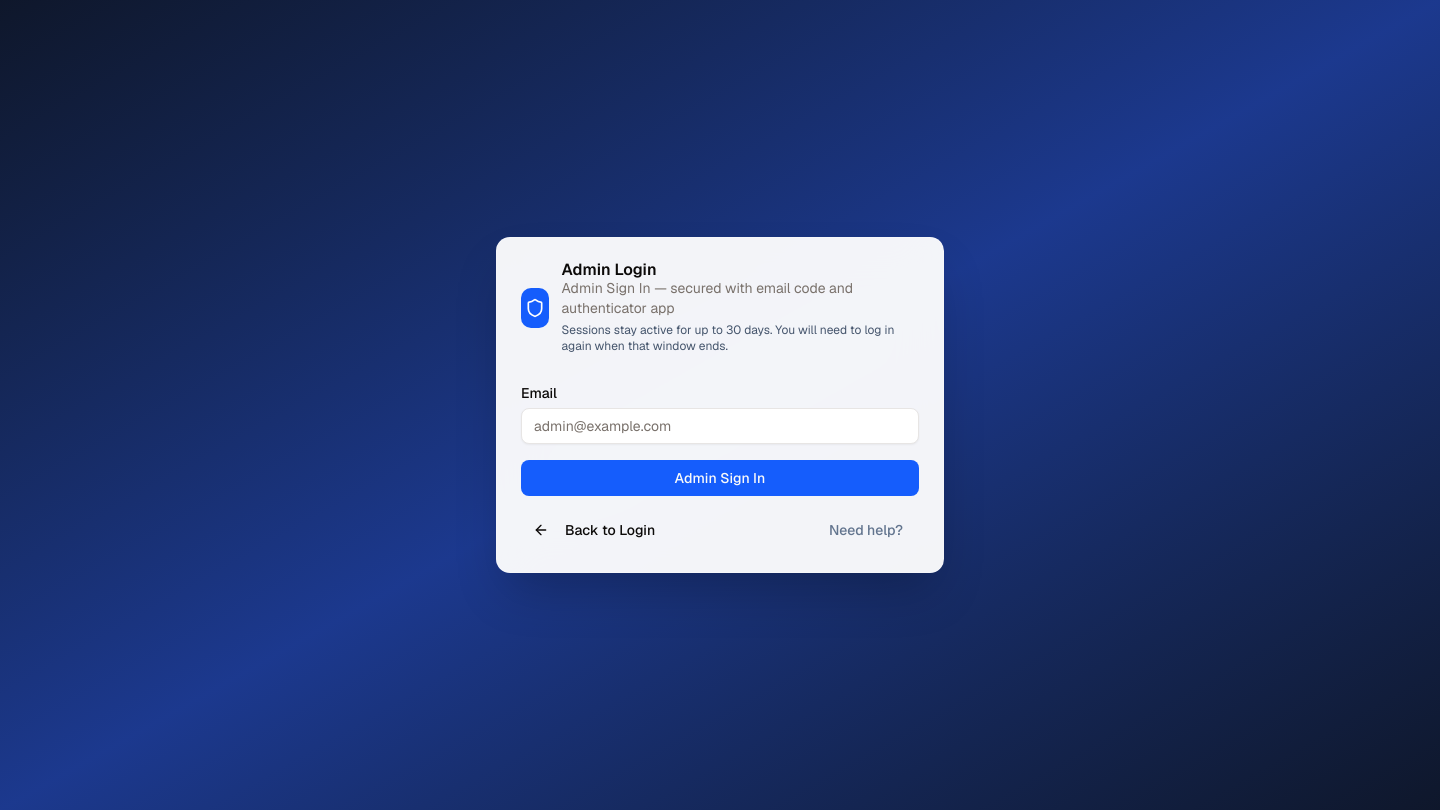
AdminLoginPage › shows error when user role is not admin
Type "user@example.com" into the field labelled "Email" at point(720, 426), box left=521, top=408, right=919, bottom=444
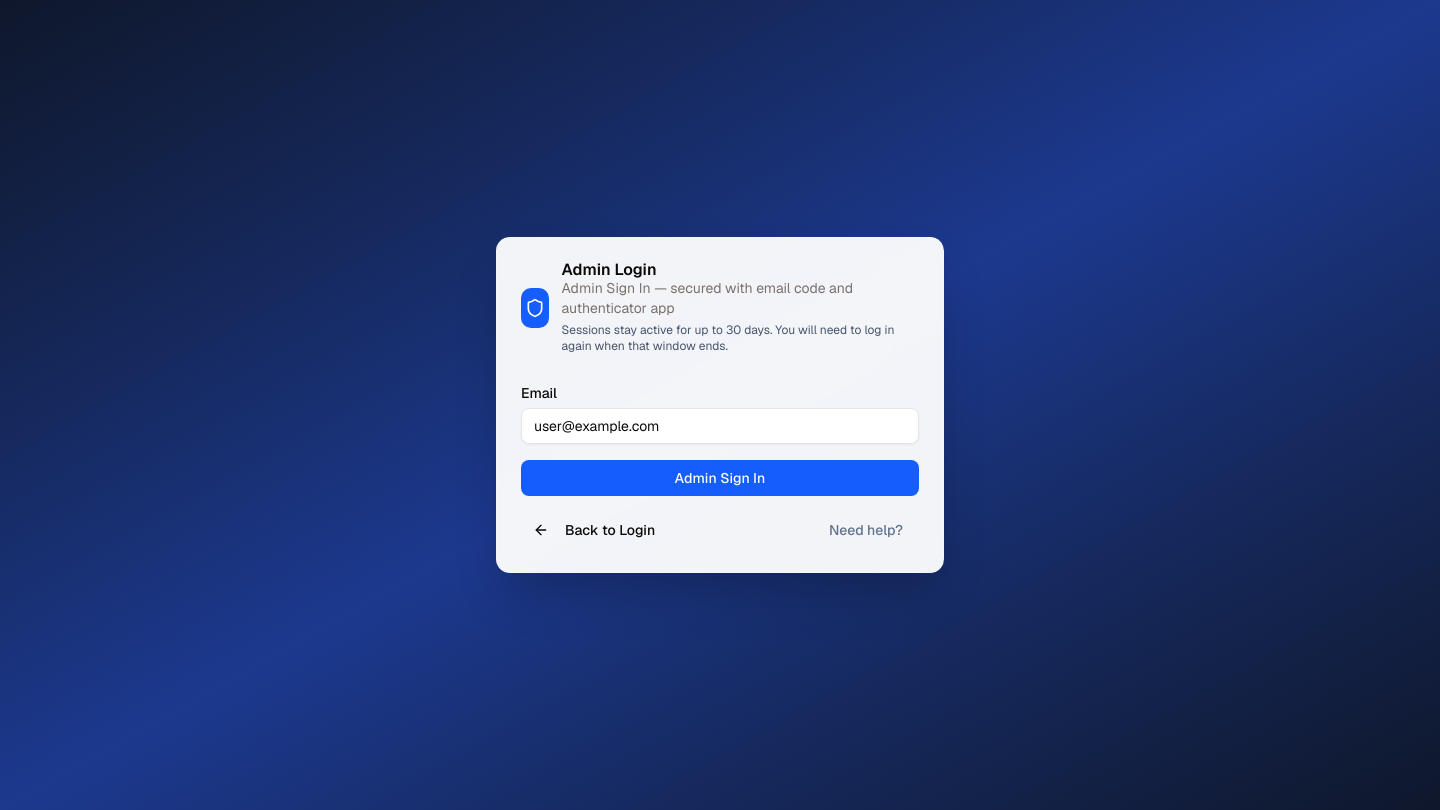
Click the button "Admin Sign In" at point(720, 478), box left=521, top=460, right=919, bottom=496
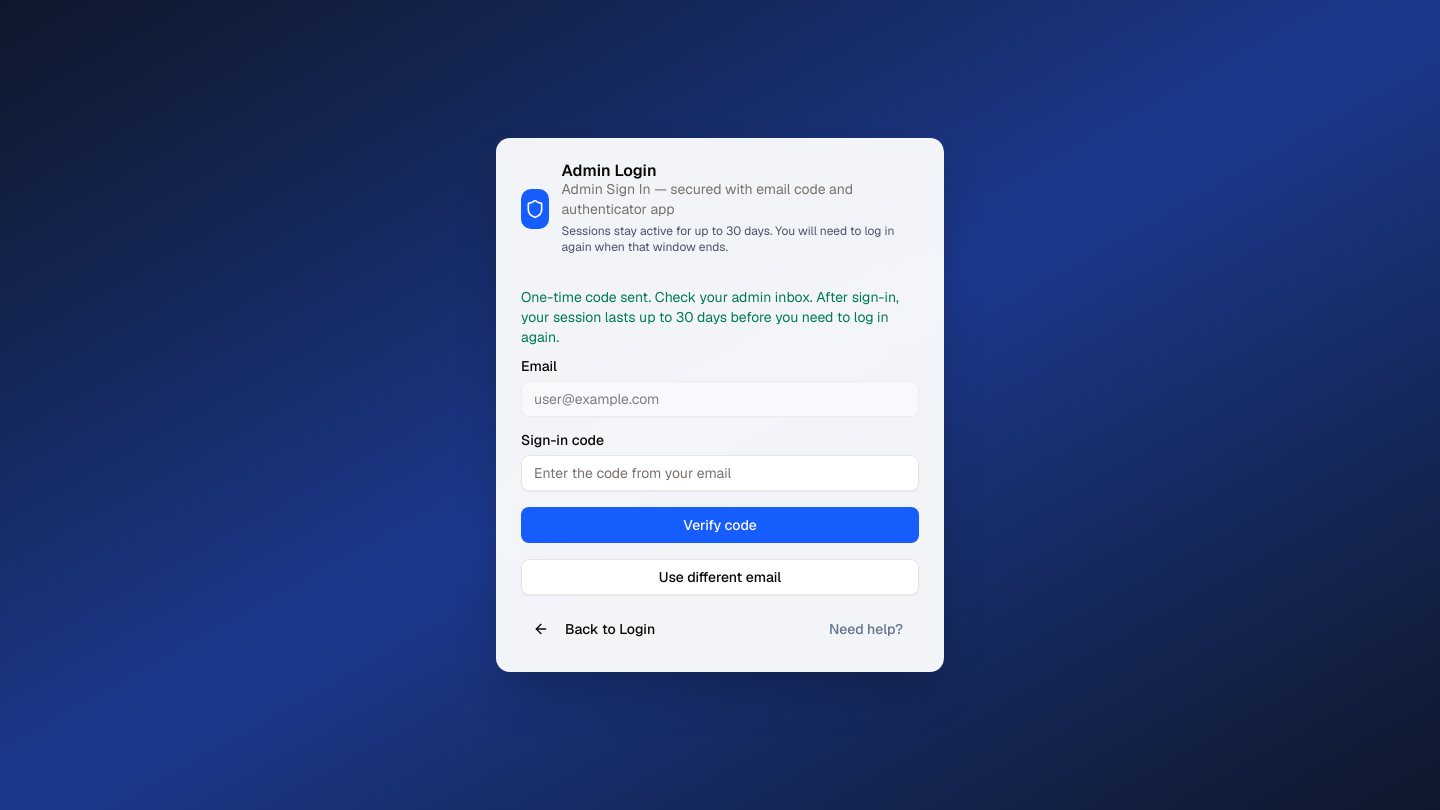
Now the field labelled "Sign-in code" is shown
Type "123456" into the field labelled "Sign-in code" at point(720, 473), box left=521, top=455, right=919, bottom=491
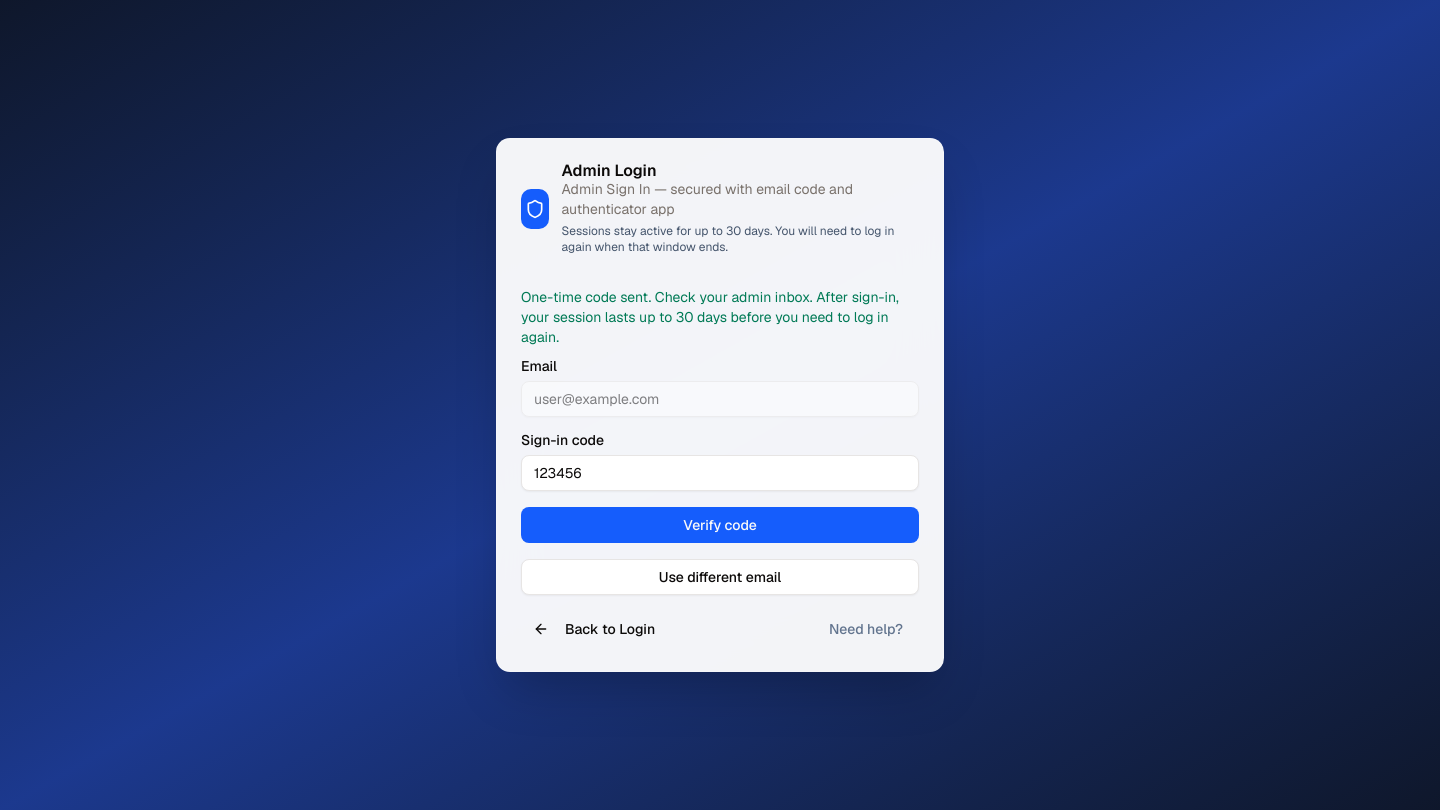
Click the button "Verify code" at point(720, 525), box left=521, top=507, right=919, bottom=543
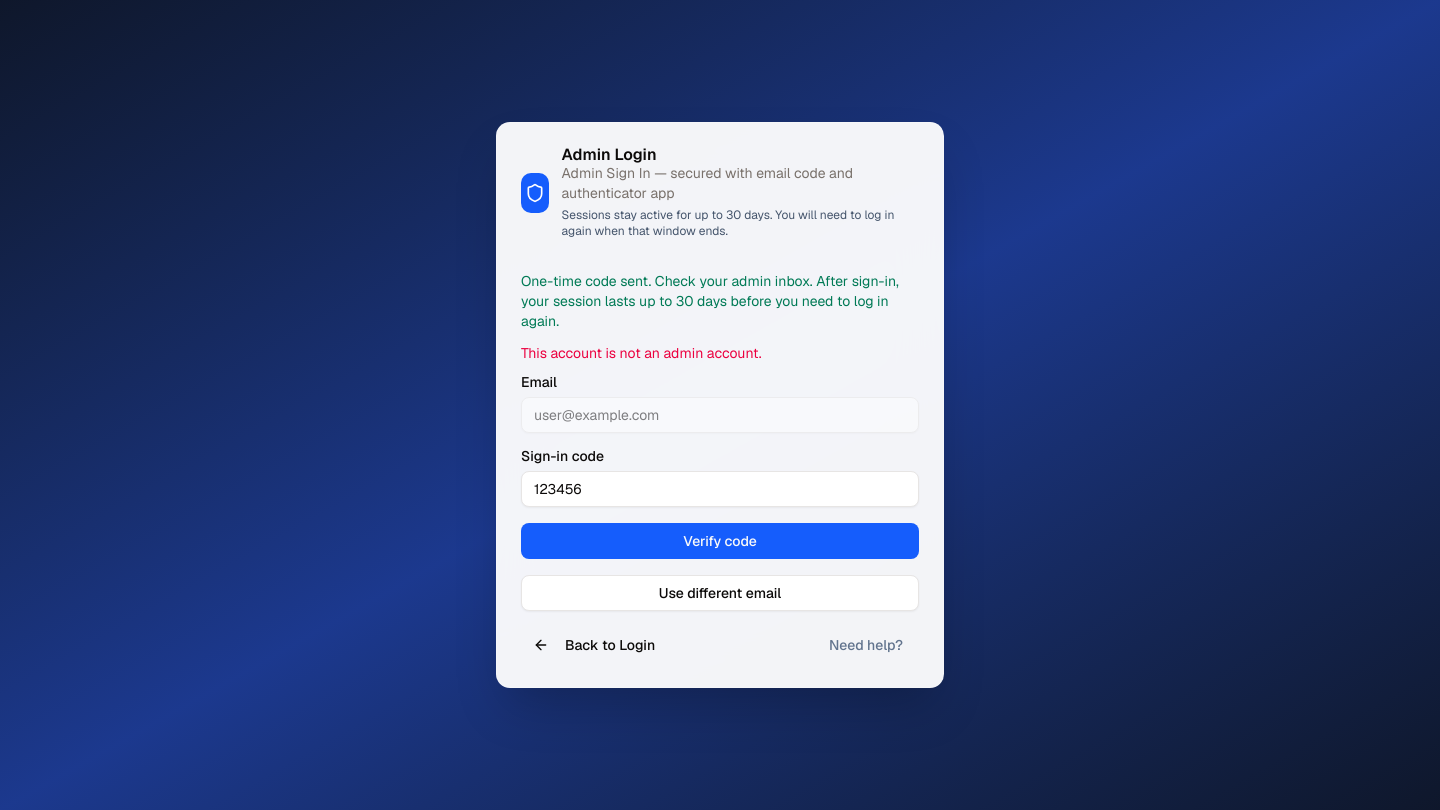
Now the text "This account is not an admin account." is shown, box left=521, top=344, right=762, bottom=362
